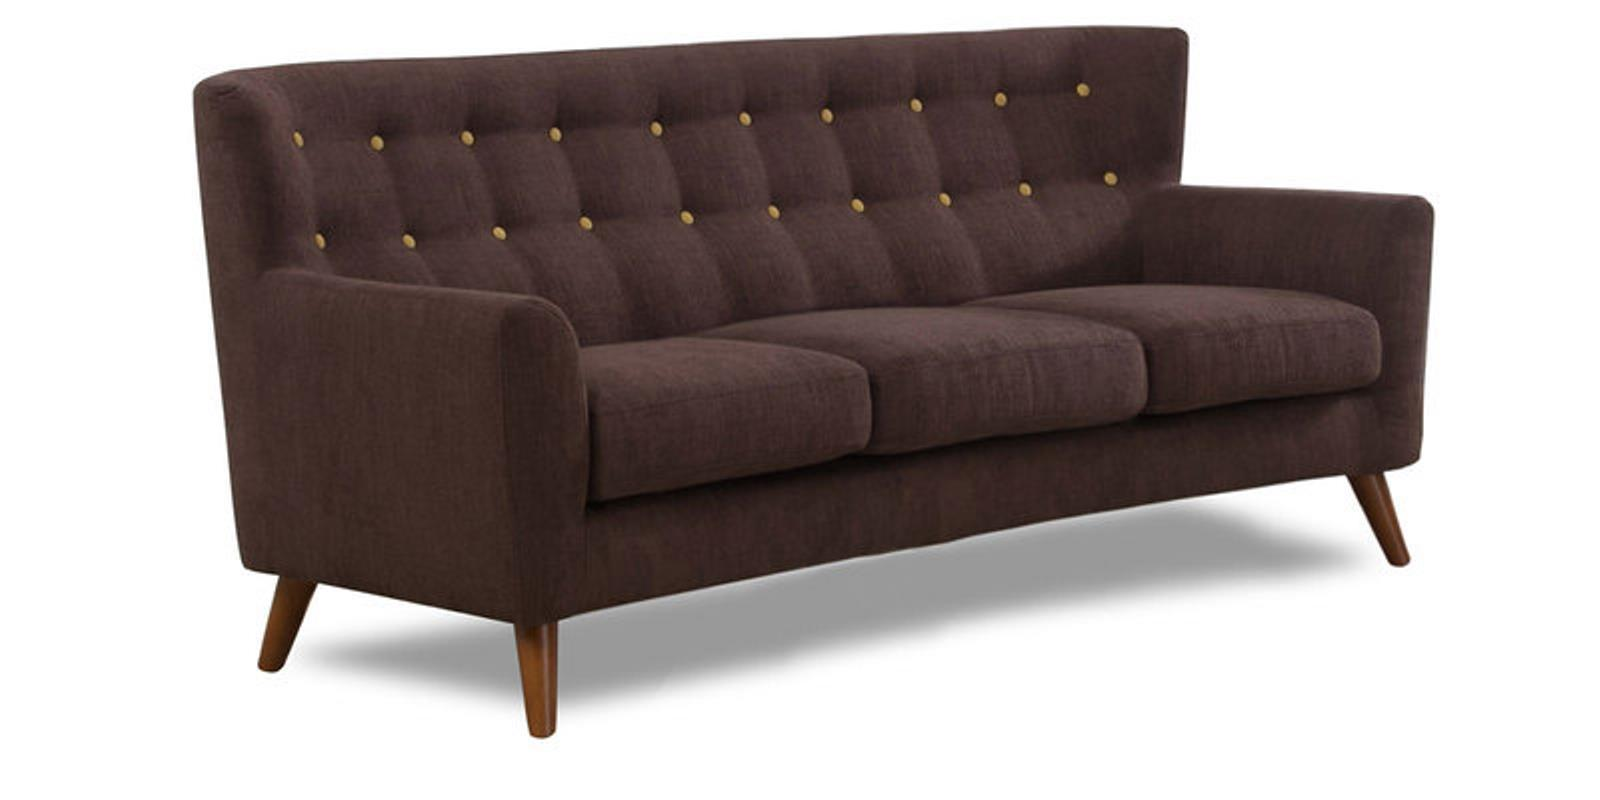Havana Three Seater Sofa in Dark Brown Colour by CasaCraft: (155, 18, 1497, 750)
